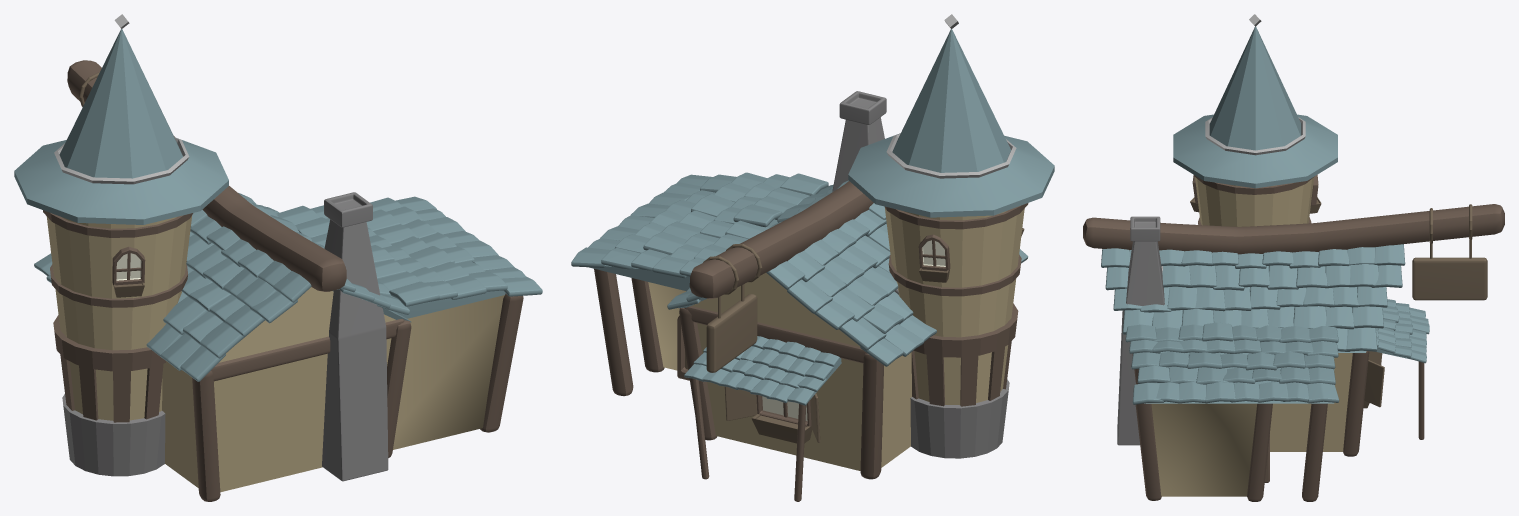
The model's file is AshaHuis.fbx.
3 views of the same model, side by side, from view 1: azimuth 30°, elevation 25°; view 2: azimuth 150°, elevation 25°; view 3: azimuth 270°, elevation 25° (orthographic). The views are drawn at different scales.
Visible parts, largest first — view 1: polySurface3394; view 2: polySurface3394; view 3: polySurface3394.
Boxes of the visible parts, x1,y1,x2,y2 form: polySurface3394: (14,14,542,501); polySurface3394: (571,14,1054,501); polySurface3394: (1083,14,1504,501).
Size of the model in its own units: 7.32 by 7.06 by 7.41.
